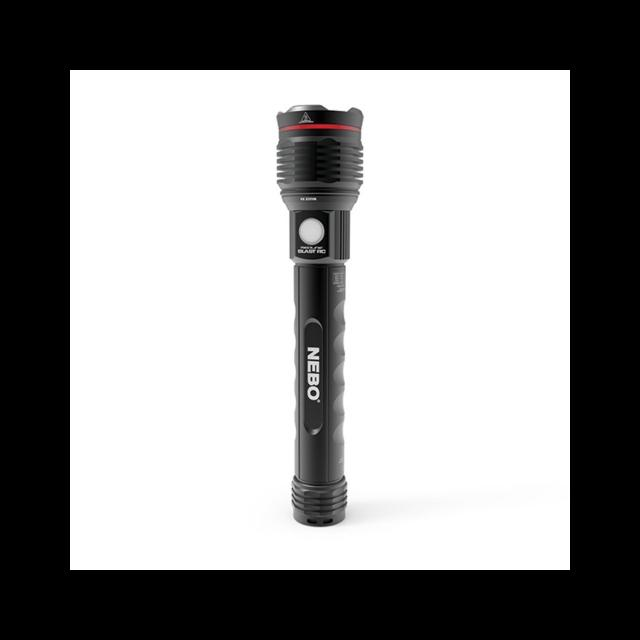Flashlight: (266, 95, 372, 532)
